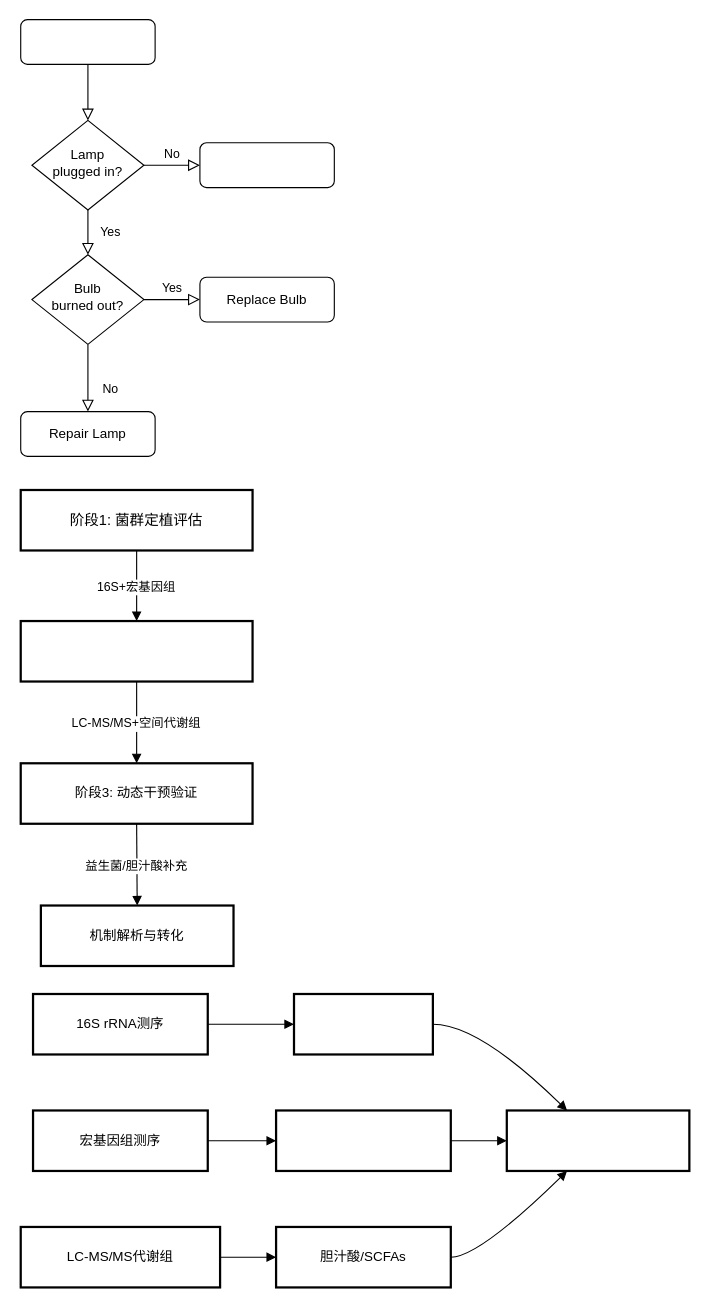
The diagram is 709 pixels wide and 1308 high, and some of its shapes have lost their labels. The shapes that lost their labels are listed below. From the top down, each one's centre as x and y in pixels, then its label:
the point at 87,41: Lamp doesn't work
the point at 266,165: Plug in lamp
the point at 136,650: 阶段2: 代谢组学分析
the point at 362,1023: 菌群结构
the point at 362,1140: 功能基因baiH
the point at 597,1140: KEGG通路富集
